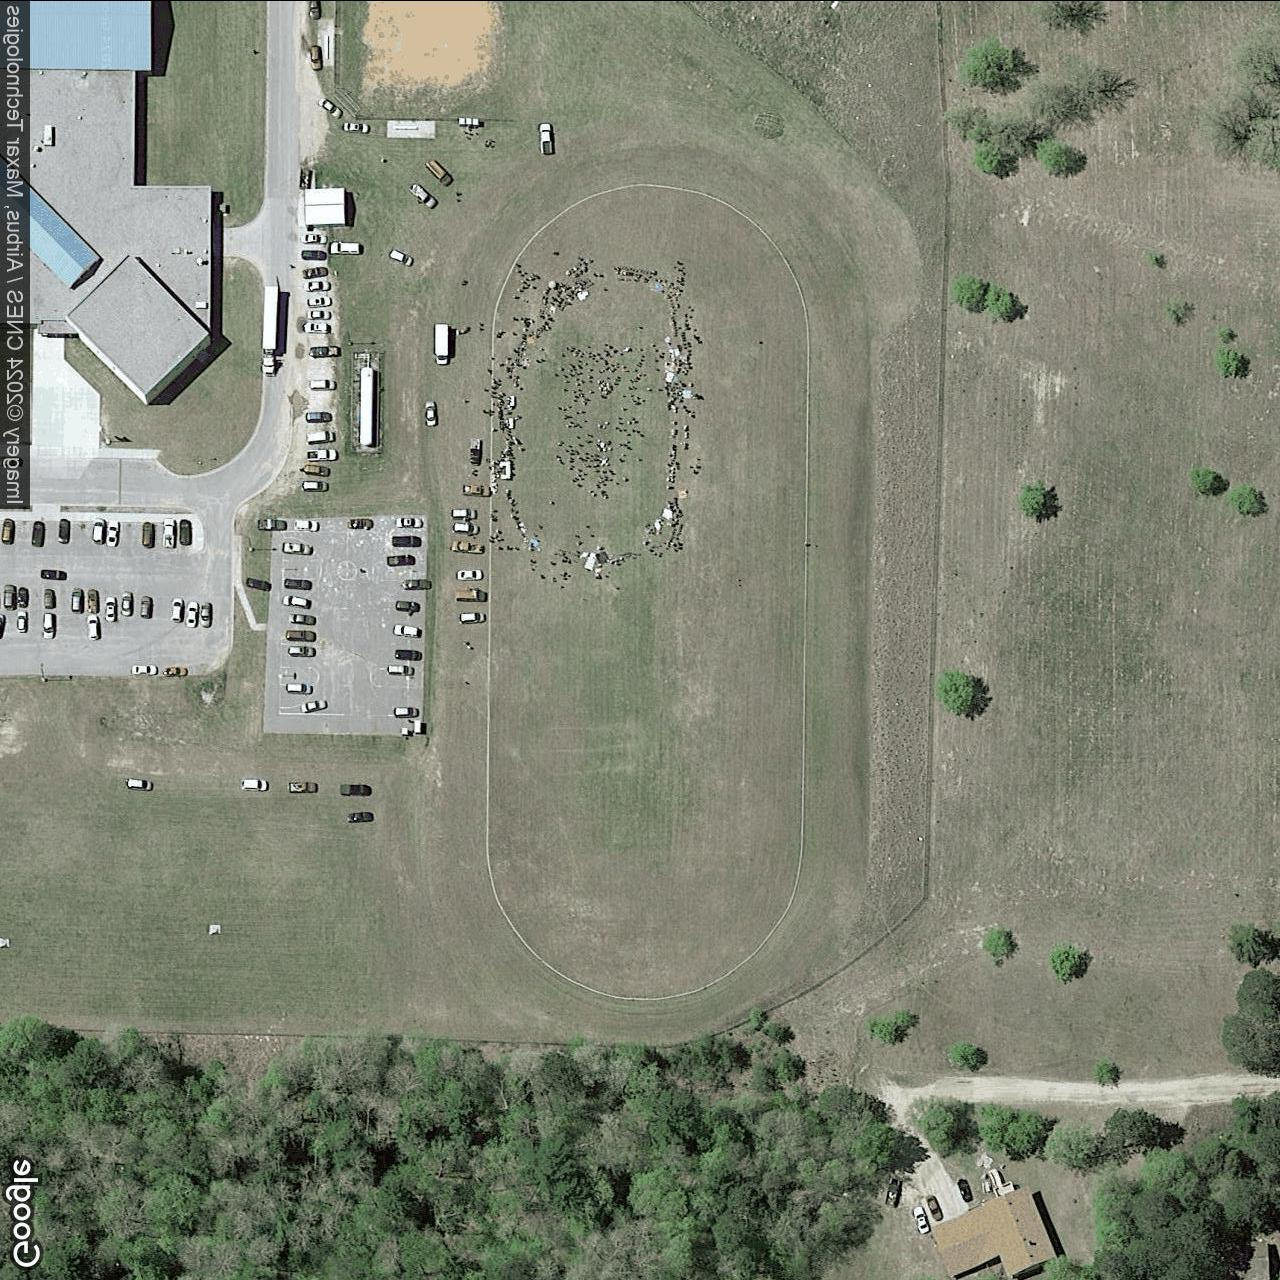House: (927, 1184, 1060, 1279)
Other: (30, 1, 212, 406)
Propane: (359, 365, 380, 449)
